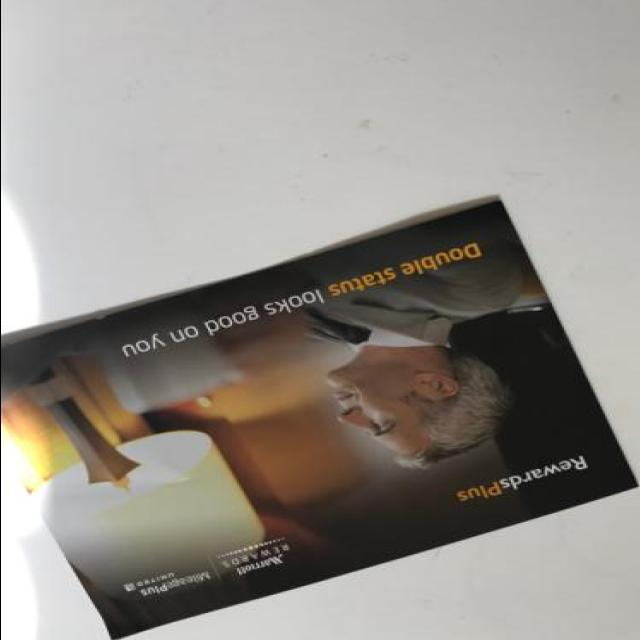kertas: (0, 194, 640, 640)
